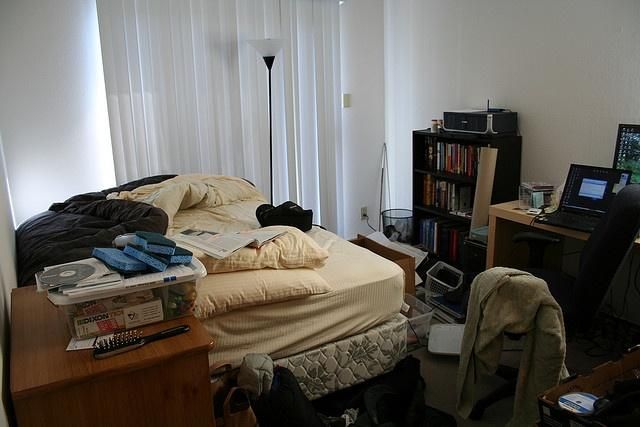Printer: (442, 107, 518, 136)
Rak: (410, 130, 490, 265)
